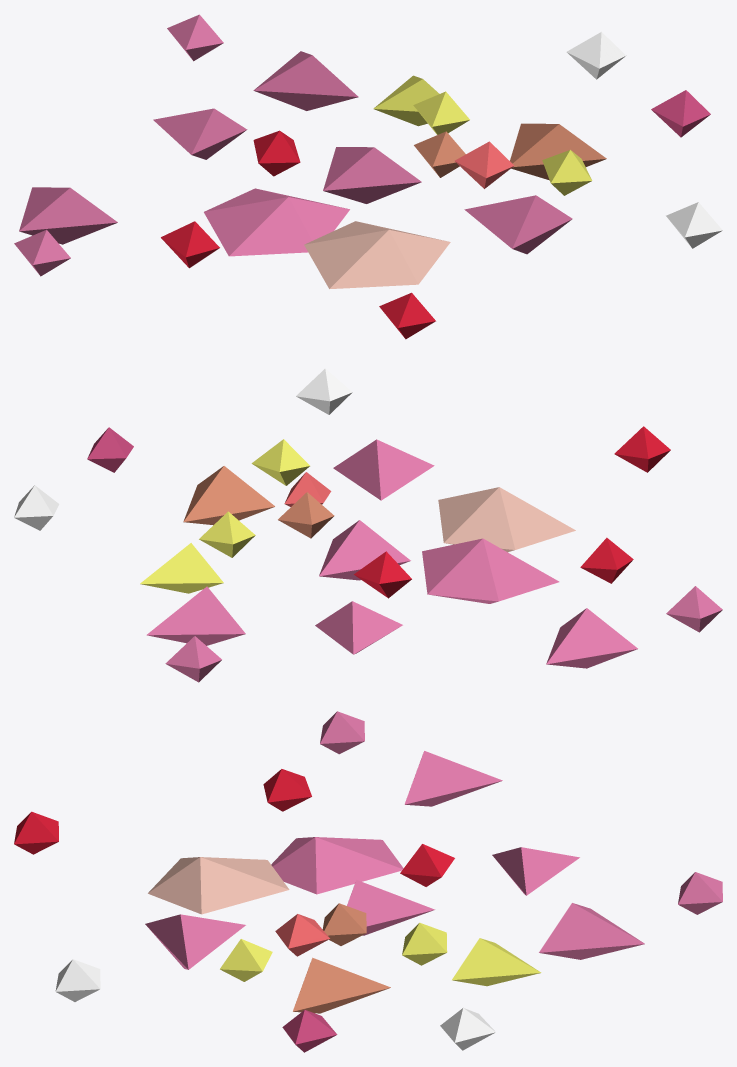
File: ZLP_Flower_A_6.FBX
The picture shows the model from 3 angles, top to bottom: view 1: azimuth 30°, elevation 25°; view 2: azimuth 150°, elevation 25°; view 3: azimuth 270°, elevation 25°; orthographic projection. The views are drawn at different scales.
Visible parts, largest first — view 1: ZLP_Flower_A_6; view 2: ZLP_Flower_A_6; view 3: ZLP_Flower_A_6.
Part boxes in pixels (left/top/right/bottom): ZLP_Flower_A_6: left=14, top=14, right=722, bottom=339; ZLP_Flower_A_6: left=14, top=368, right=722, bottom=682; ZLP_Flower_A_6: left=14, top=711, right=722, bottom=1052.
Bounding box in the file's own units: 89.14 × 9.25 × 83.93.
